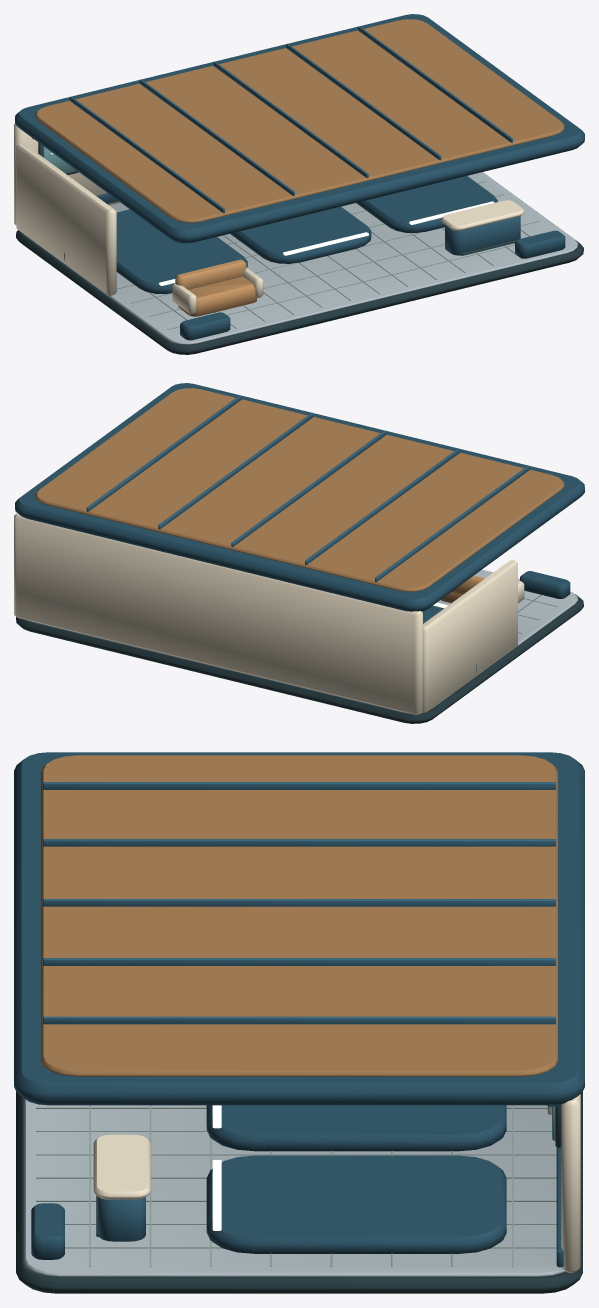
The model's file is dealership.glb.
The picture shows the model from 3 angles, top to bottom: view 1: azimuth 30°, elevation 25°; view 2: azimuth 150°, elevation 25°; view 3: azimuth 270°, elevation 25°; orthographic projection. The views are drawn at different scales.
Parts seen in each view (by area): view 1: Roof, Room; view 2: Roof, Room; view 3: Roof, Room.
Boxes of the visible parts, box(x1,y1,x2,y2) form: Roof: box(15, 14, 584, 243); Room: box(14, 124, 583, 354); Roof: box(15, 383, 584, 611); Room: box(14, 513, 583, 723); Roof: box(14, 752, 584, 1105); Room: box(16, 1092, 582, 1293).
Size of the model in its own units: 11.5 by 3.48 by 8.18.
